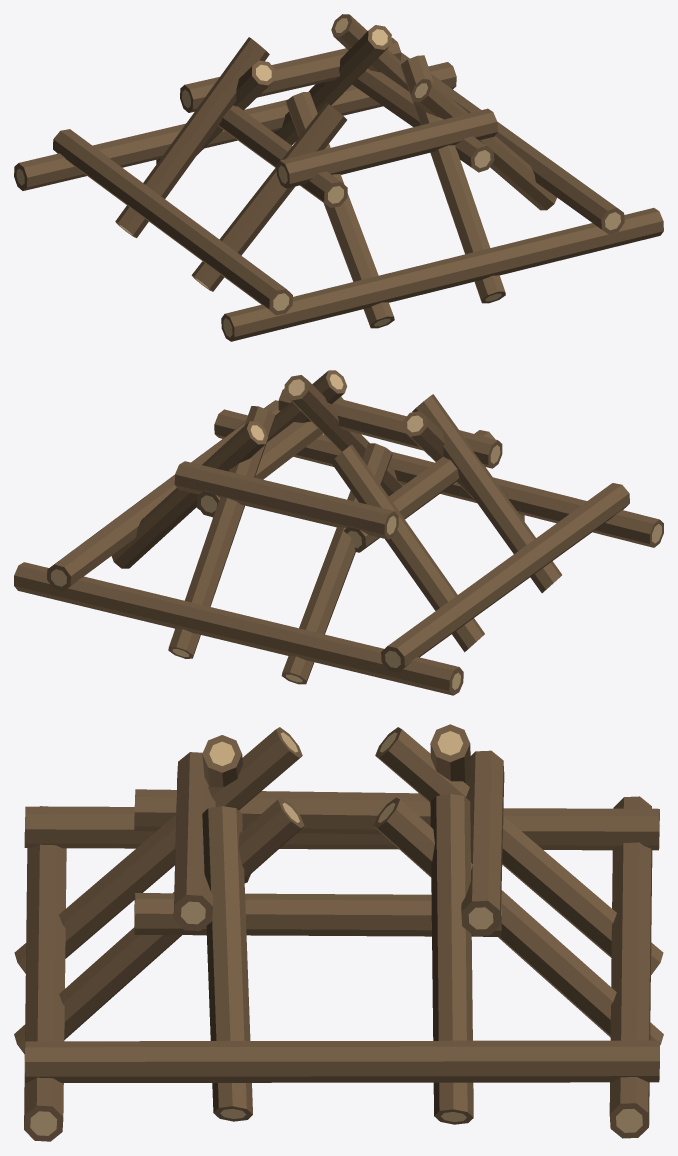
Rendered from rpgpp_ag_stockpile_02_roof_support_02.fbx.
3 views of the same model, one above another, from view 1: azimuth 30°, elevation 25°; view 2: azimuth 150°, elevation 25°; view 3: azimuth 270°, elevation 25° (orthographic). The views are drawn at different scales.
Parts seen in each view (by area): view 1: rpgpp_ag_stockpile_02_roof_support_02; view 2: rpgpp_ag_stockpile_02_roof_support_02; view 3: rpgpp_ag_stockpile_02_roof_support_02.
Boxes of the visible parts, left/top/right/bottom form: rpgpp_ag_stockpile_02_roof_support_02: left=14, top=14, right=663, bottom=341; rpgpp_ag_stockpile_02_roof_support_02: left=14, top=370, right=663, bottom=695; rpgpp_ag_stockpile_02_roof_support_02: left=14, top=724, right=663, bottom=1141.
Size of the model in its own units: 4.67 by 1.91 by 4.18.
